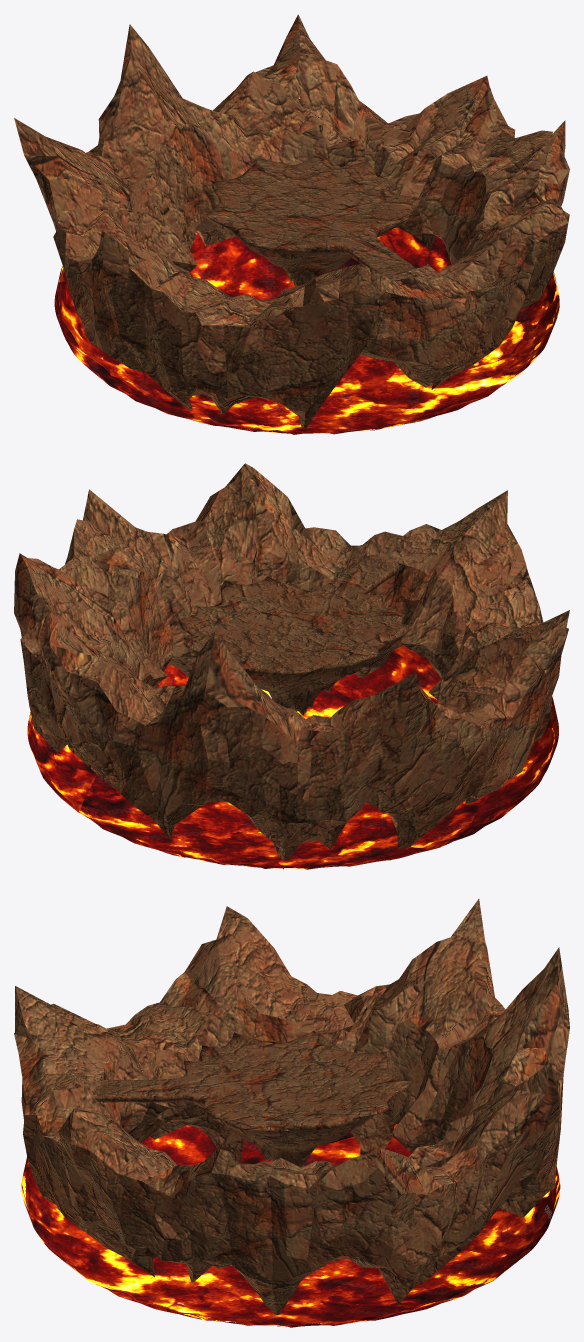
The model's file is hell_arena.glb.
The picture shows the model from 3 angles, top to bottom: view 1: azimuth 30°, elevation 25°; view 2: azimuth 150°, elevation 25°; view 3: azimuth 270°, elevation 25°; orthographic projection. The views are drawn at different scales.
Visible parts, largest first — view 1: Circle_3, Circle.001_4, Plane_2; view 2: Circle_3, Circle.001_4, Plane_2; view 3: Circle_3, Circle.001_4, Plane_2.
Boxes of the visible parts, box(x1,y1,x2,y2) form: Circle_3: box(14, 14, 569, 428); Circle.001_4: box(54, 228, 559, 434); Plane_2: box(205, 152, 423, 286); Circle_3: box(14, 463, 569, 869); Circle.001_4: box(27, 645, 558, 869); Plane_2: box(178, 554, 412, 715); Circle_3: box(14, 899, 569, 1314); Circle.001_4: box(21, 1120, 560, 1327); Plane_2: box(91, 1030, 410, 1167).
Size of what is drawn, in the model's own units: 4.92 by 2.75 by 4.81.
3 materials, 3 textured.
